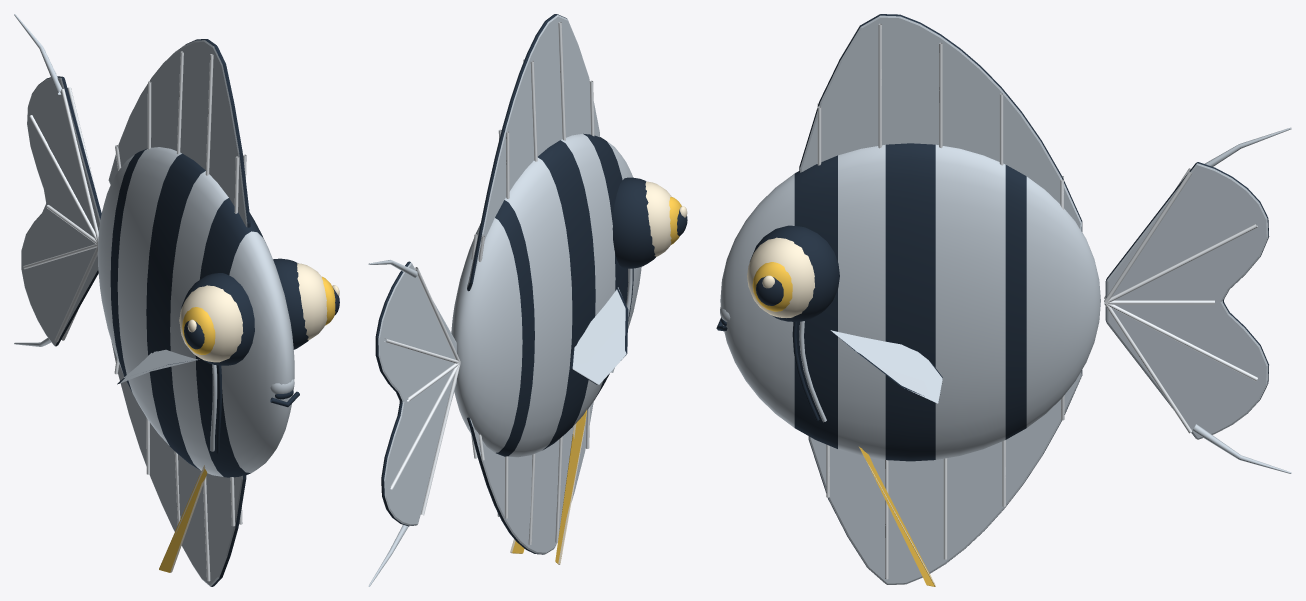
File: angelfish.glb
3 views of the same model, side by side, from view 1: azimuth 30°, elevation 25°; view 2: azimuth 150°, elevation 25°; view 3: azimuth 270°, elevation 25° (orthographic). The views are drawn at different scales.
Parts seen in each view (by area): view 1: BodyMesh, TailMesh, StreamerMesh, PectoralMesh; view 2: BodyMesh, TailMesh, PectoralMesh, StreamerMesh; view 3: BodyMesh, TailMesh, PectoralMesh.001, StreamerMesh.001.
Boxes of the visible parts, left/top/right/bottom form: BodyMesh: left=97, top=39, right=339, bottom=586; TailMesh: left=14, top=14, right=101, bottom=346; StreamerMesh: left=159, top=465, right=207, bottom=572; PectoralMesh: left=117, top=349, right=199, bottom=384; BodyMesh: left=451, top=14, right=687, bottom=554; TailMesh: left=368, top=260, right=460, bottom=586; PectoralMesh: left=570, top=287, right=628, bottom=384; StreamerMesh: left=555, top=410, right=586, bottom=564; BodyMesh: left=716, top=14, right=1100, bottom=584; TailMesh: left=1104, top=127, right=1291, bottom=473; PectoralMesh.001: left=830, top=330, right=942, bottom=403; StreamerMesh.001: left=859, top=447, right=935, bottom=586.
Bounding box in the file's own units: 0.8115 × 2.71 × 2.48.
